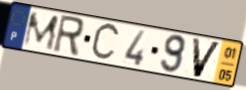4: (122, 28, 146, 67)
9: (158, 33, 187, 75)
C: (89, 22, 122, 63)
M: (21, 11, 61, 52)
R: (50, 13, 86, 59)
V: (190, 36, 224, 80)
